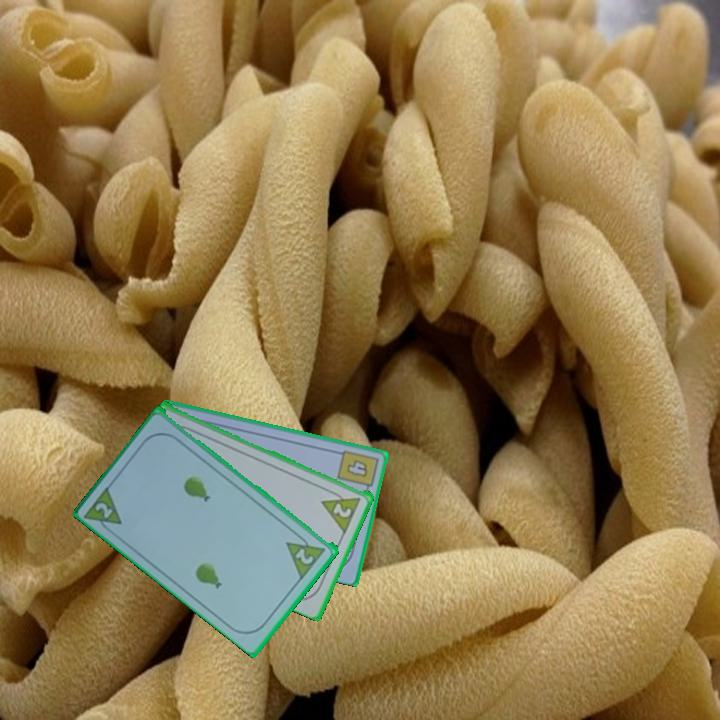2p: (81, 481, 126, 538), (330, 499, 355, 521), (292, 545, 317, 567)
4b: (334, 446, 381, 496)
